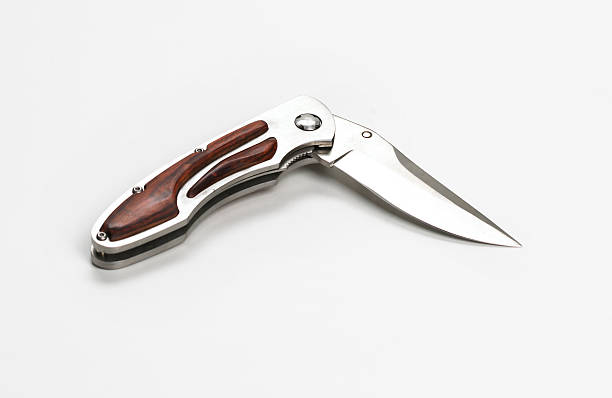knife: (330, 133, 526, 250)
